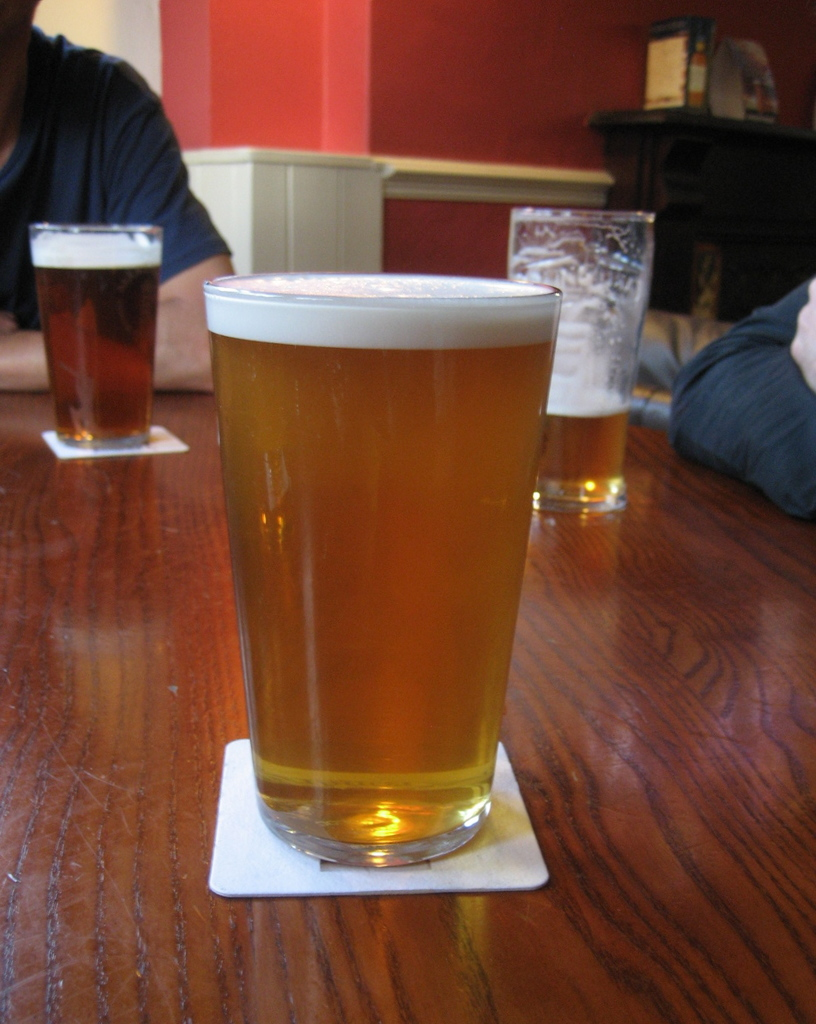Beer: (204, 274, 558, 865), (24, 228, 161, 439), (547, 374, 628, 500)
